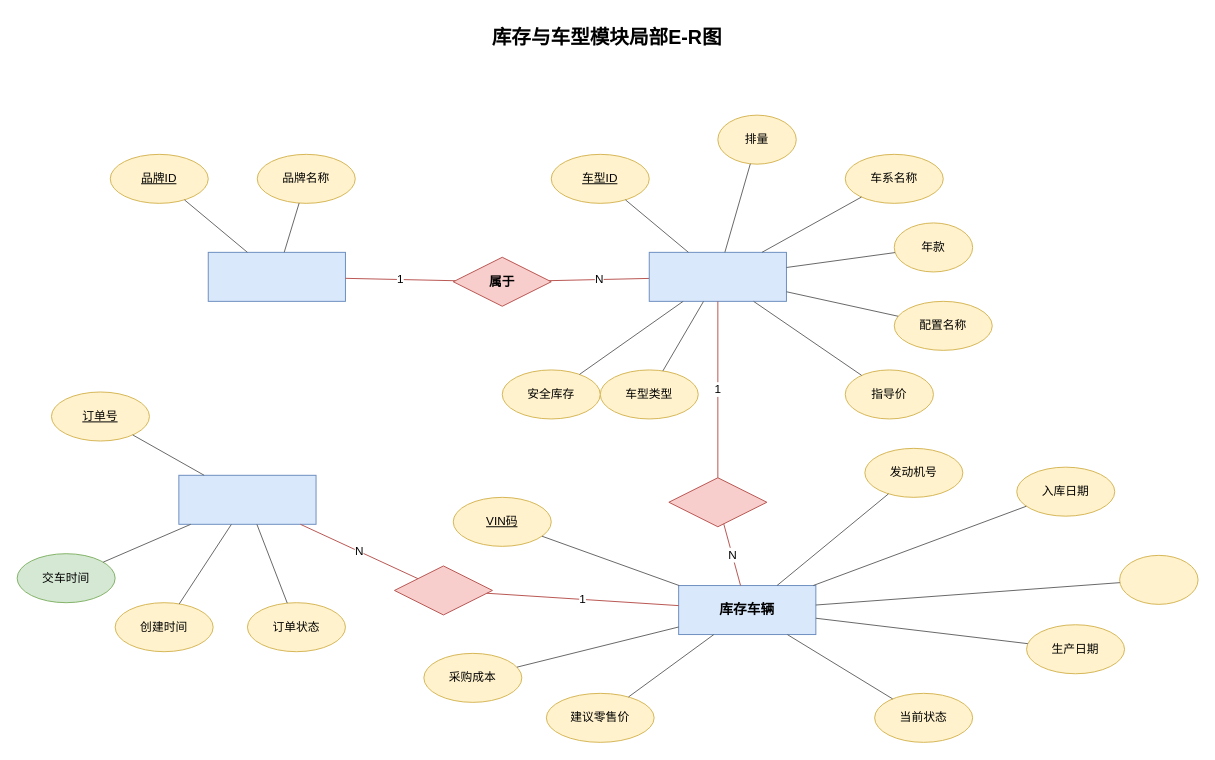
This 1215x760 diagram has some shape labels left out. Each missing label, with the centre of its shape:
"关联车辆" belongs at point 442,590.
"品牌" belongs at point 276,276.
"定义" belongs at point 717,502.
"车型" belongs at point 717,276.
"销售订单" belongs at point 247,499.
"颜色" belongs at point 1158,579.
